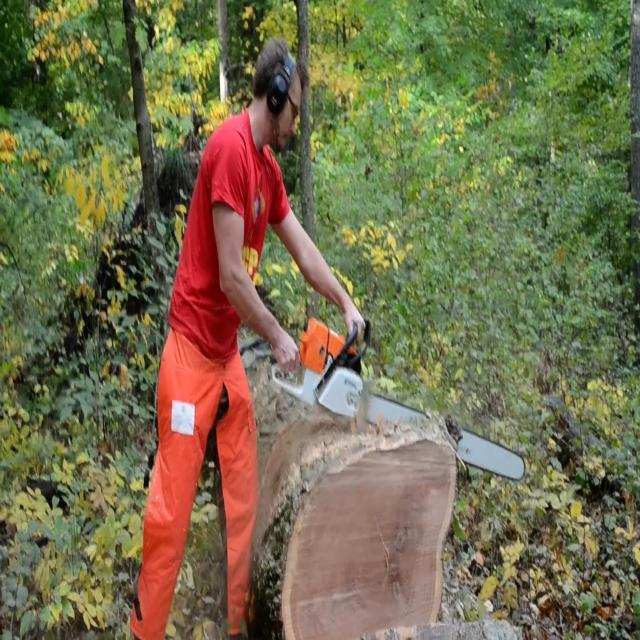Chainsaw: (256, 290, 534, 507)
